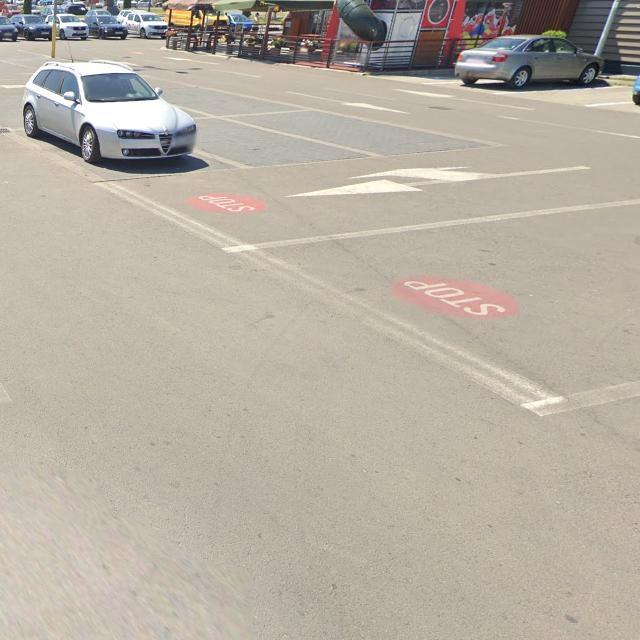prio_stop: (391, 274, 521, 321), (189, 192, 270, 216)
